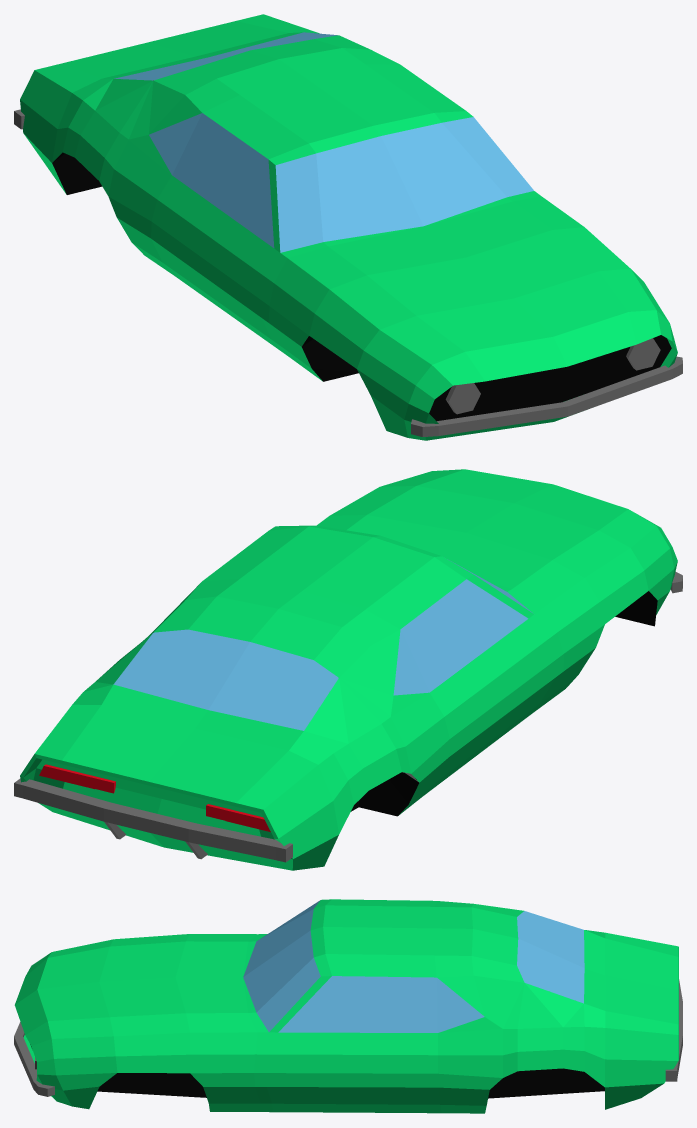
Rendered from carvet.fbx.
3 renders of one model, top to bottom at view 1: azimuth 30°, elevation 25°; view 2: azimuth 150°, elevation 25°; view 3: azimuth 270°, elevation 25°, orthographic. The views are drawn at different scales.
Visible parts, largest first — view 1: Body; view 2: Body; view 3: Body.
Boxes of the visible parts, <box> form: Body: <box>14,14,682,440</box>; Body: <box>14,469,682,870</box>; Body: <box>14,899,682,1113</box>.
Bounding box in the file's own units: 131 × 72.05 × 316.
